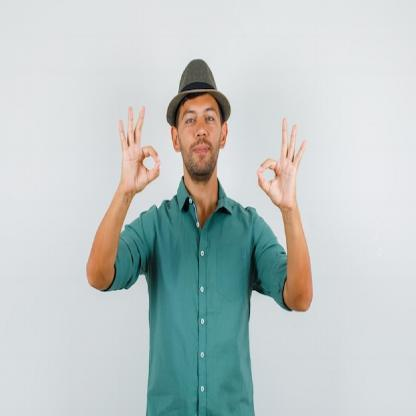ok: (254, 114, 311, 216), (116, 100, 162, 195)
